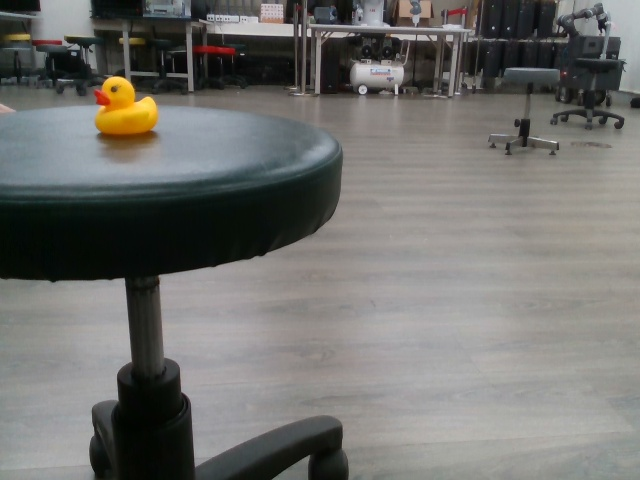duck: (93, 73, 159, 138)
